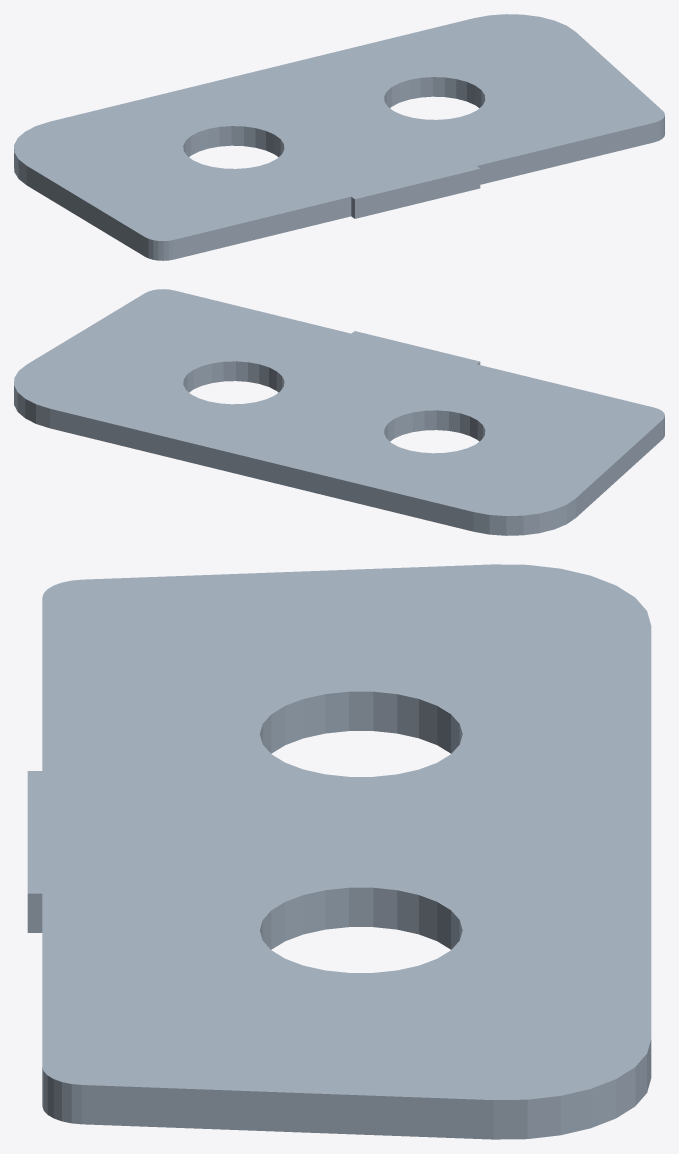
File: sheet-md-17-04194-2-1-folded.glb
3 views of the same model, one above another, from view 1: azimuth 30°, elevation 25°; view 2: azimuth 150°, elevation 25°; view 3: azimuth 270°, elevation 25° (orthographic). The views are drawn at different scales.
Parts seen in each view (by area): view 1: world; view 2: world; view 3: world.
Part boxes in pixels (box(x1,y1,x2,y2)): world: box(14, 14, 664, 260); world: box(14, 289, 664, 535); world: box(27, 564, 651, 1139).
Bounding box in the file's own units: 43.72 × 1.5 × 21.5.
